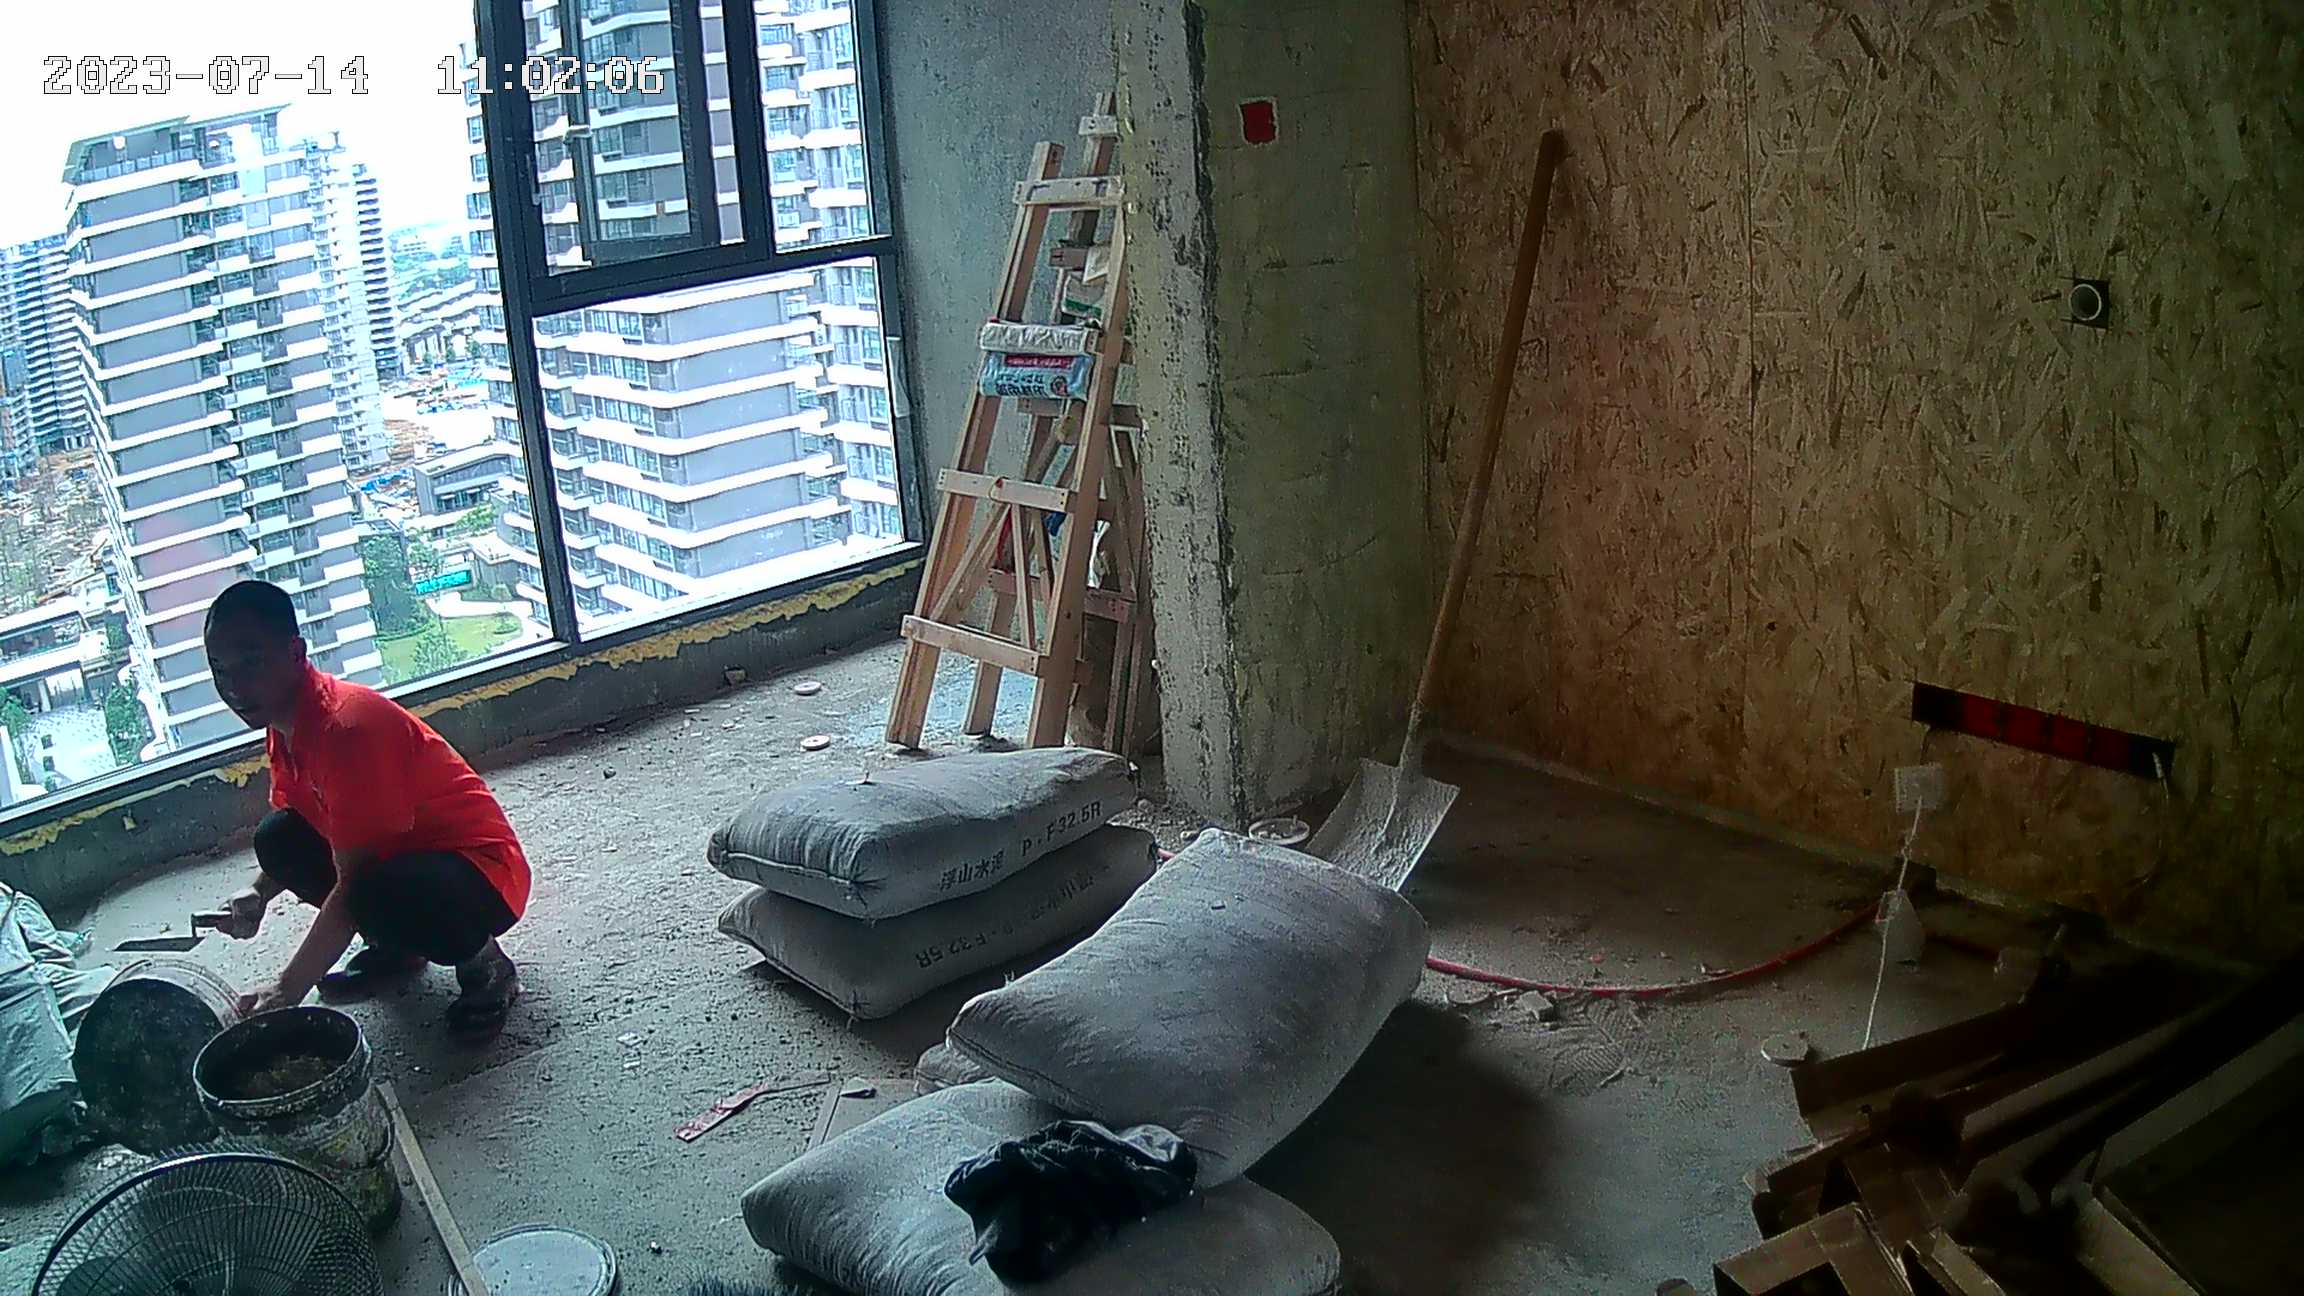people: (1, 6, 880, 815), (190, 579, 544, 1059)
